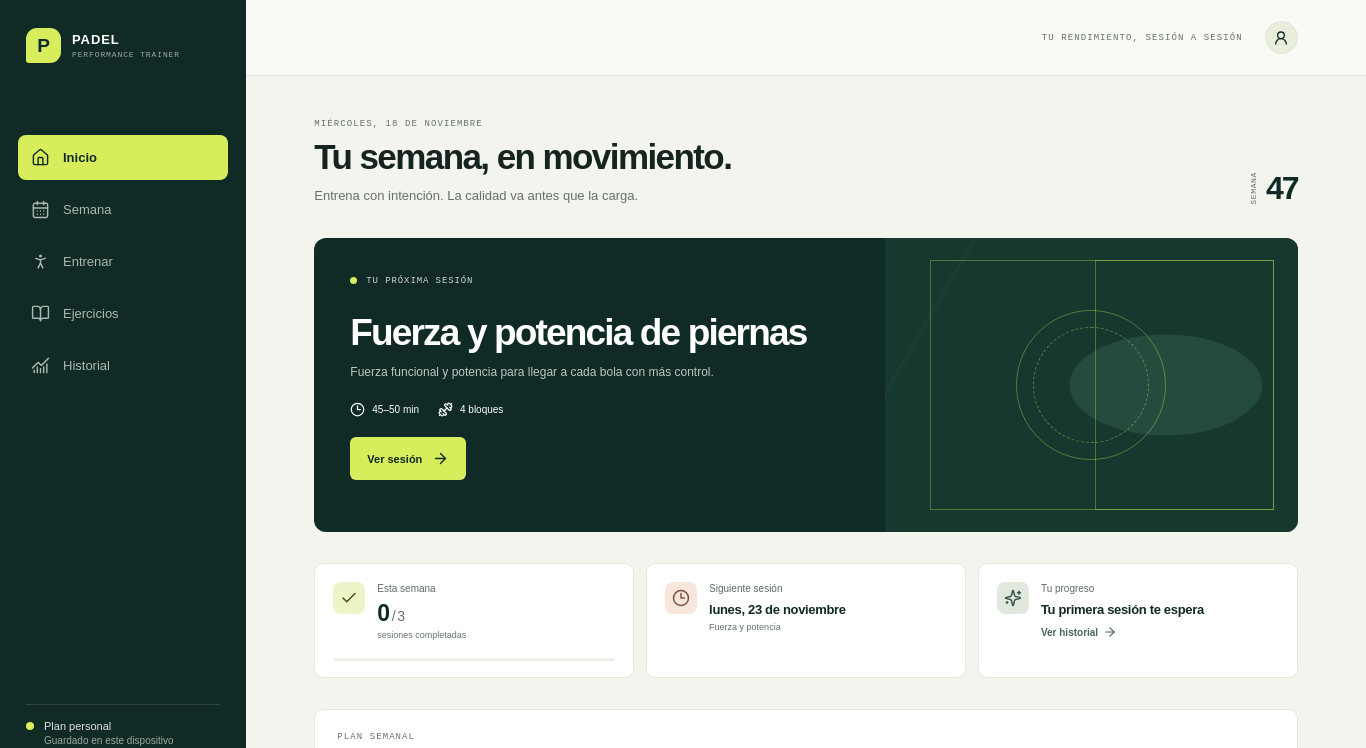
training flow › keeps rest and set state consistent when local storage fails
Later steps or results of the test are not shown.
Click the button "Entrenar". click: (123, 262)
box: [18,239,228,284]
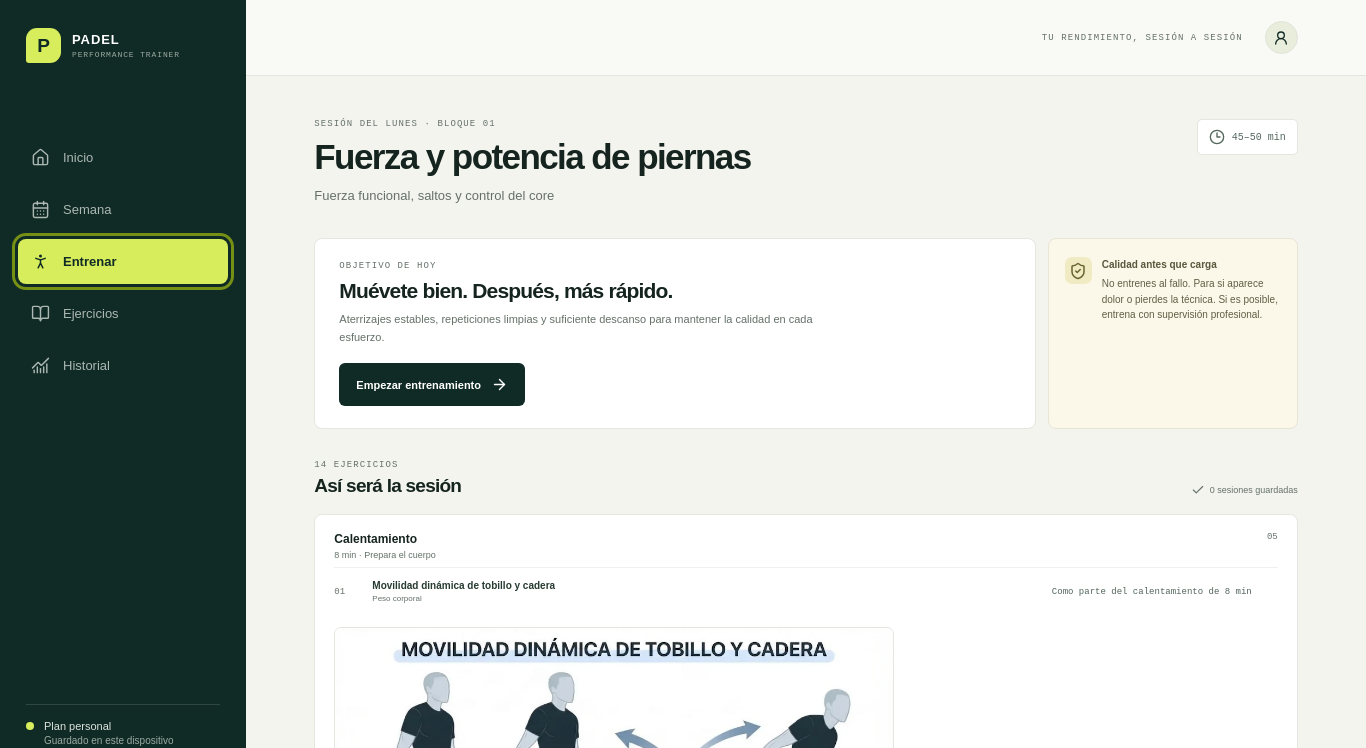
Click the button "Empezar entrenamiento". click: (432, 385)
box: [339,363,525,406]
(page scrolled)
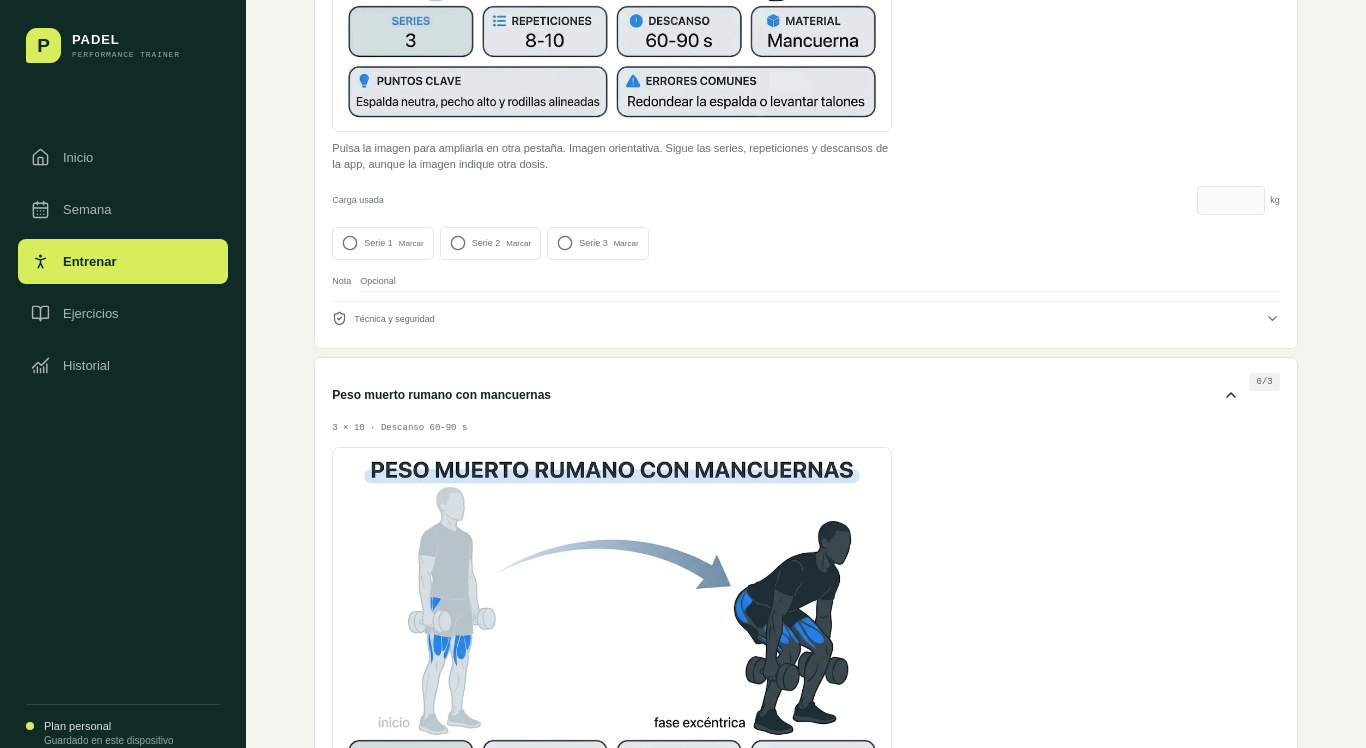
Click the button "Serie 1 Marcar". click: (383, 243)
box: [332,227,434,260]
(page scrolled)
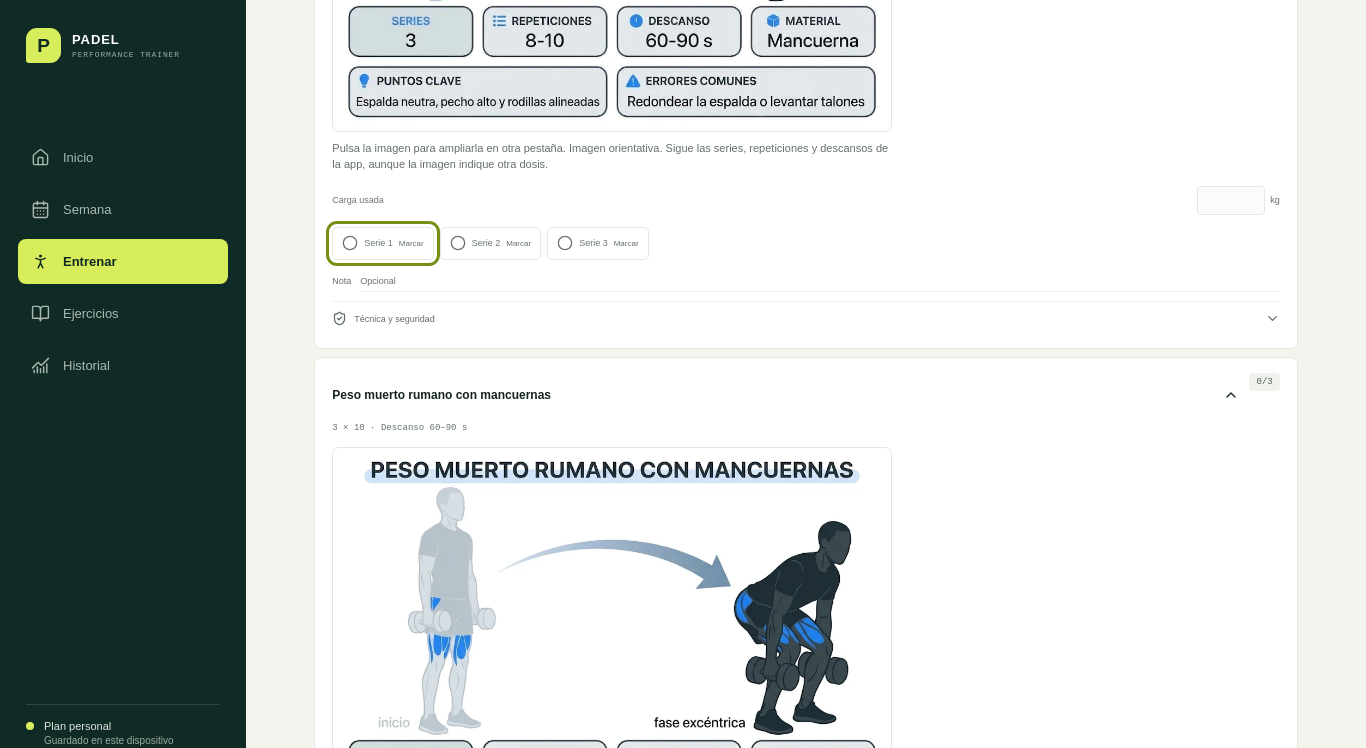
Click the button "Serie 1 Marcar". click: (383, 243)
box: [332,227,434,260]
(page scrolled)
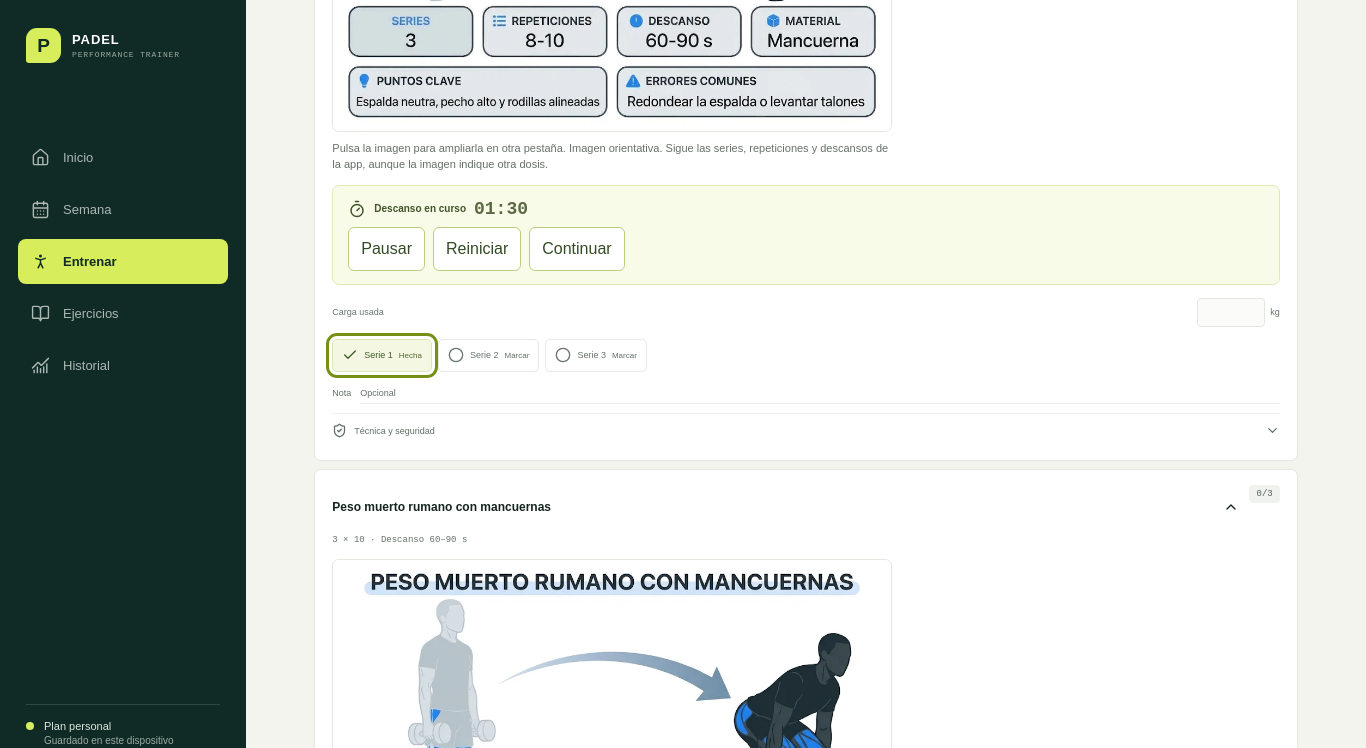
Expected: the text "01:30" is shown, [474,199,528,219]
Click the button "Serie 1 Hecha". click: (382, 355)
box: [332,339,432,372]
Expected: the text "01:30" is shown, [474,199,528,219]
